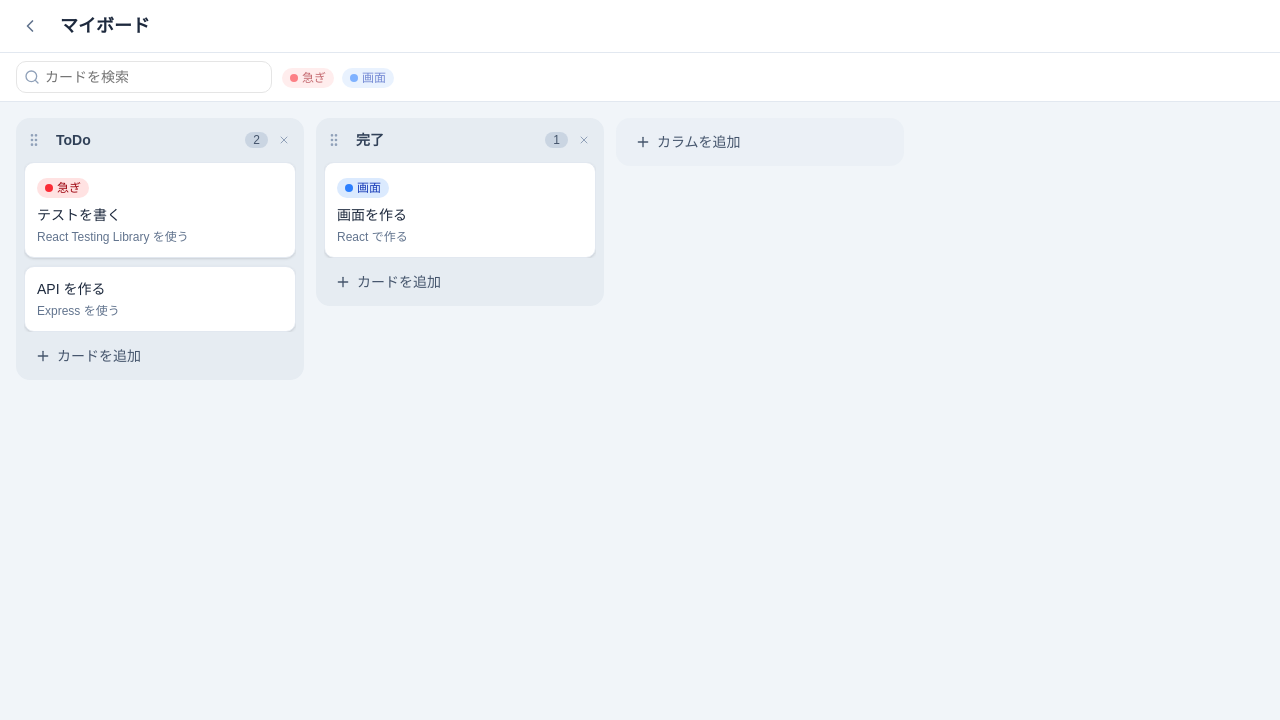
Test: カードの絞り込み › 1枚もなくなったカラムも残し、条件に合うカードがないことを出す
Expected: the heading "マイボード" is shown, top-left (52, 8), bottom-right (1264, 44)
Step 1. Type "API" into the search field labelled "カードを検索" → (144, 77), box top-left (16, 61), bottom-right (272, 93)
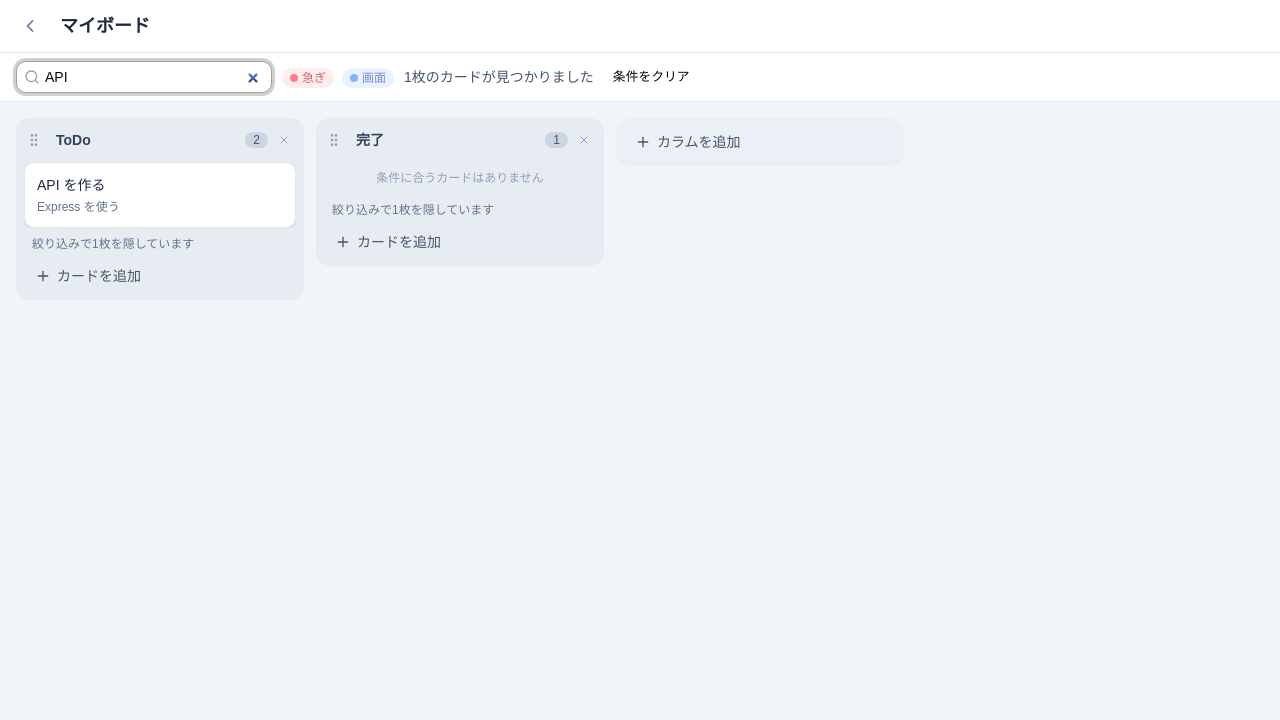
Expected: the heading "完了" is shown, top-left (348, 126), bottom-right (541, 154)
Expected: the text "条件に合うカードはありません" is shown, top-left (376, 171), bottom-right (544, 185)
Expected: the text "絞り込みで1枚を隠しています" is shown 2 times, top-left (32, 237), bottom-right (194, 251); top-left (332, 203), bottom-right (494, 217)
Note: 見出しの枚数は、隠れているカードも含めたまま（カラムを削除すると一緒に消えるため）
Step 2. Click the button named "「完了」を削除" → (584, 140), box top-left (572, 128), bottom-right (596, 152)
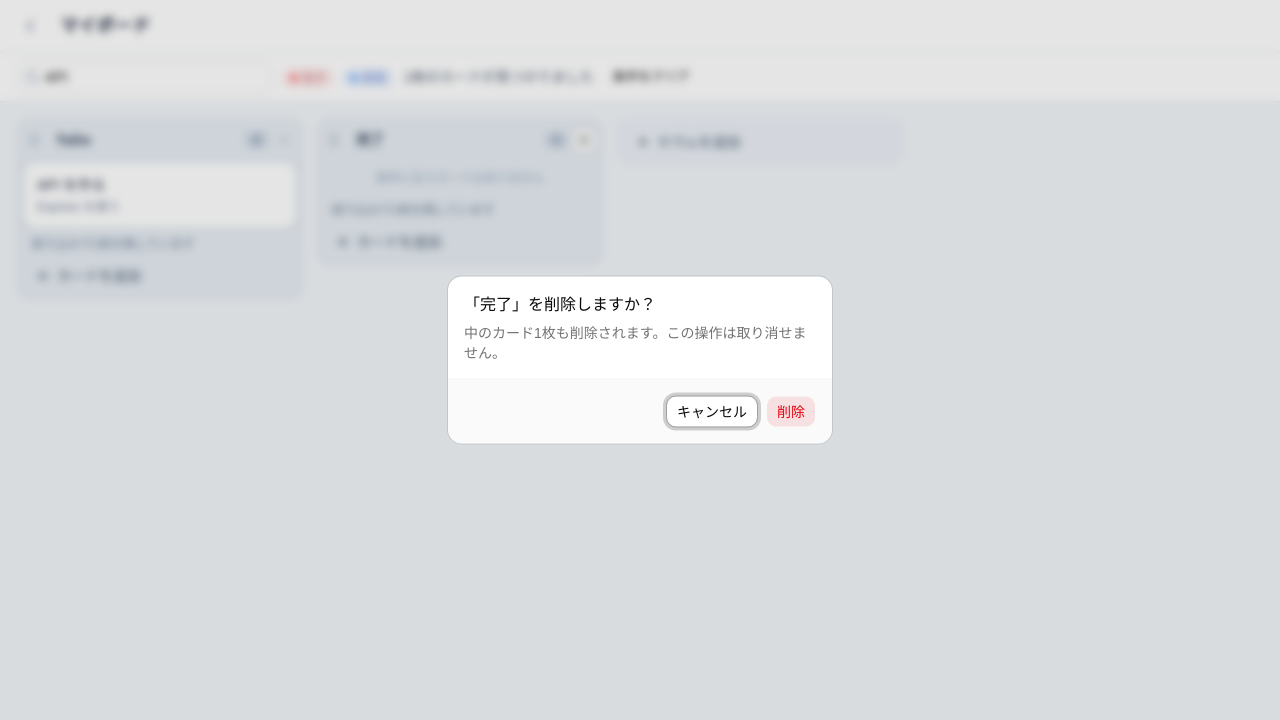
Expected: the dialog shows "中のカード1枚も削除されます", top-left (464, 324), bottom-right (806, 360)
